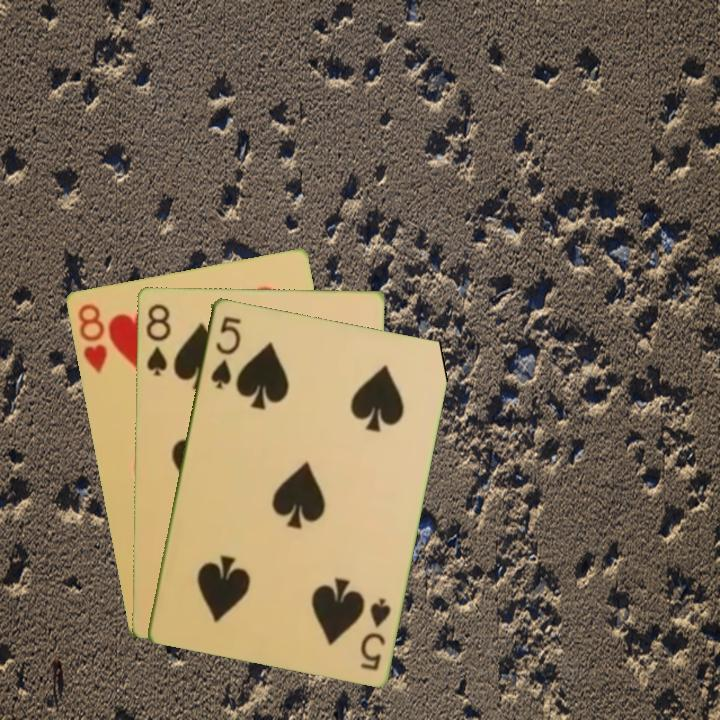5s: (206, 312, 244, 391), (356, 594, 394, 673)
8h: (74, 299, 110, 376)
8s: (142, 300, 173, 379)
